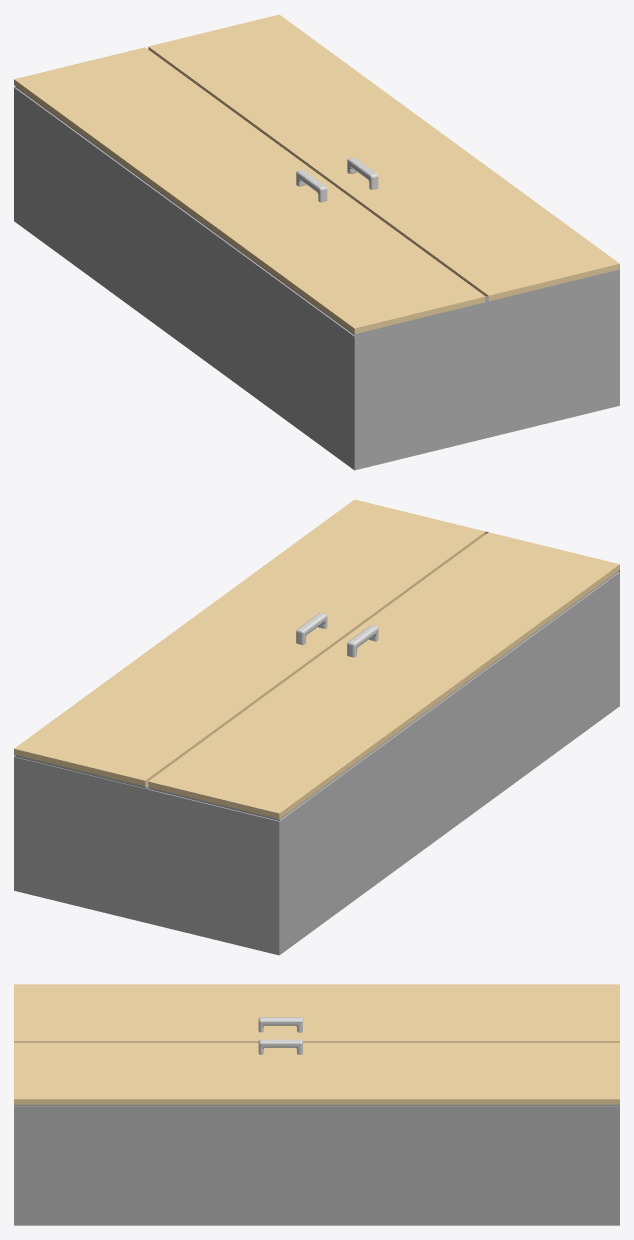
3 views of the same model, one above another, from view 1: azimuth 30°, elevation 25°; view 2: azimuth 150°, elevation 25°; view 3: azimuth 270°, elevation 25° (orthographic). The views are drawn at different scales.
Visible parts, largest first — view 1: Cube; view 2: Cube; view 3: Cube.
Boxes of the visible parts, x1,y1,x2,y2 form: Cube: (14,14,619,470); Cube: (14,499,619,955); Cube: (14,984,619,1225).
Size of the model in its own units: 90 by 50.47 by 200.
